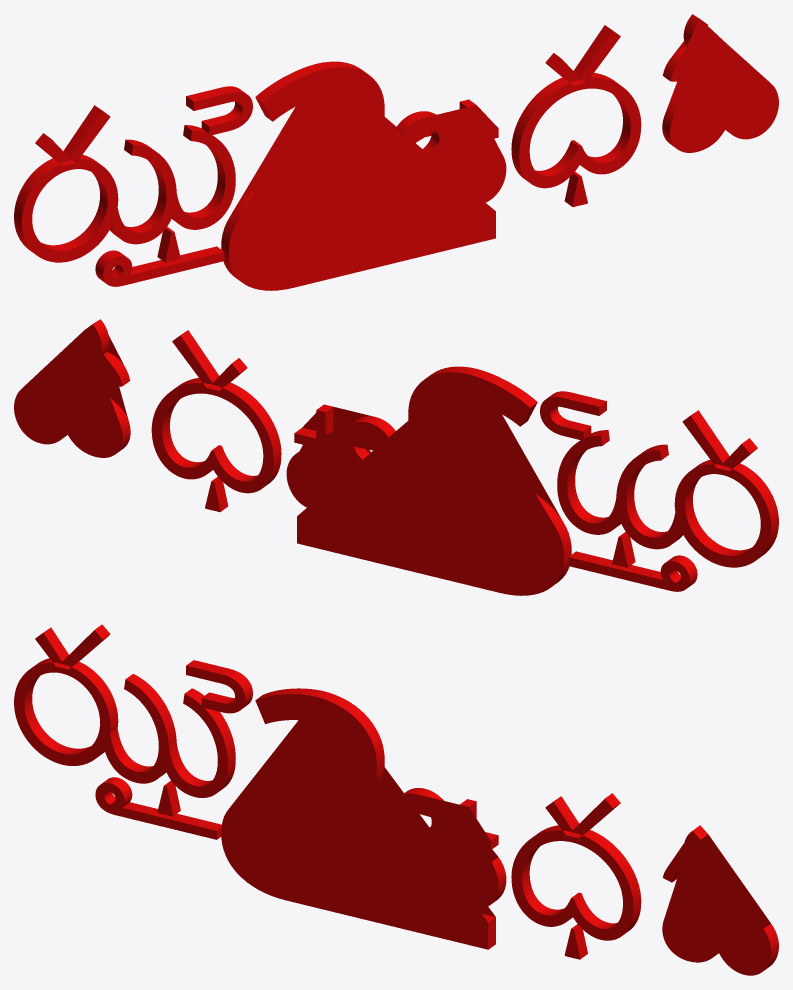
File: Text_sign_17.fbx
3 renders of one model, top to bottom at view 1: azimuth 30°, elevation 25°; view 2: azimuth 150°, elevation 25°; view 3: azimuth 330°, elevation 25°, orthographic.
Parts seen in each view (by area): view 1: Text_sign_17; view 2: Text_sign_17; view 3: Text_sign_17.
Boxes of the visible parts, x1=… form: Text_sign_17: x1=14, y1=14, x2=778, y2=290; Text_sign_17: x1=14, y1=319, x2=778, y2=595; Text_sign_17: x1=14, y1=624, x2=778, y2=975.
Bounding box in the file's own units: 143 × 40.41 × 2.52.
